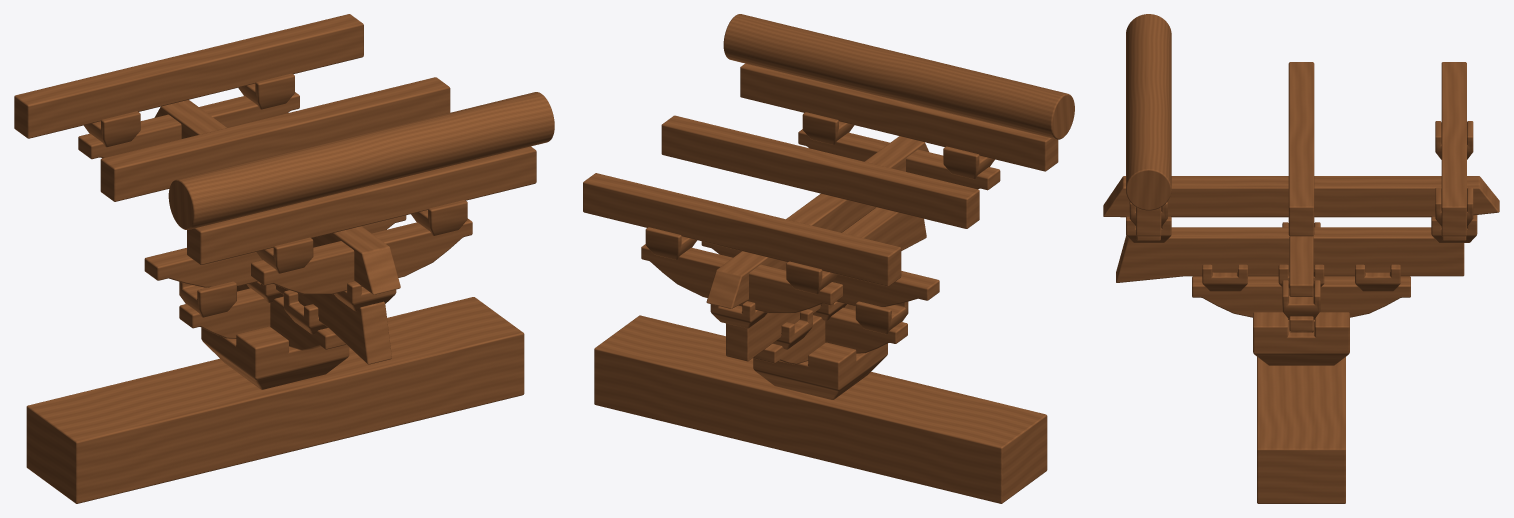
3 renders of one model, left to right at view 1: azimuth 30°, elevation 25°; view 2: azimuth 150°, elevation 25°; view 3: azimuth 270°, elevation 25°, orthographic. The views are drawn at different scales.
Parts seen in each view (by area): view 1: g6_timber_01, g6_beam_24, g6_timber_23, g6_timber_22, g6_timber_21, g6_gong_14, g6_dou_02, g6_head_20, g6_gong_17, g6_ang_10, g6_gong_11, g6_gong_04 (+8 smaller); view 2: g6_timber_01, g6_beam_24, g6_timber_22, g6_timber_23, g6_timber_21, g6_head_20, g6_gong_17, g6_dou_02, g6_ang_10, g6_gong_14, g6_gong_11, g6_gong_04 (+8 smaller); view 3: g6_ang_10, g6_timber_01, g6_head_20, g6_beam_24, g6_gong_03, g6_timber_22, g6_timber_23, g6_dou_02, g6_gong_11, g6_dou_07, g6_dou_05, g6_dou_09 (+6 smaller).
Boxes of the visible parts, x1,y1,x2,y2 form: g6_timber_01: (26,297,524,503); g6_beam_24: (168,92,554,229); g6_timber_23: (14,14,363,138); g6_timber_22: (100,77,450,201); g6_timber_21: (187,146,536,264); g6_gong_14: (251,218,472,294); g6_dou_02: (201,326,349,389); g6_head_20: (154,100,400,294); g6_gong_17: (78,92,299,159); g6_ang_10: (275,285,391,364); g6_gong_11: (144,215,406,287); g6_gong_04: (179,288,270,338); g6_timber_01: (594,315,1047,503); g6_beam_24: (723,14,1074,139); g6_timber_22: (661,115,979,228); g6_timber_23: (583,173,901,286); g6_timber_21: (740,63,1058,171); g6_head_20: (706,136,928,308); g6_gong_17: (641,244,842,313); g6_dou_02: (753,342,887,399); g6_ang_10: (726,207,926,361); g6_gong_14: (798,129,1000,190); g6_gong_11: (701,241,939,306); g6_gong_04: (825,307,907,353); g6_ang_10: (1116,227,1464,282); g6_timber_01: (1257,357,1345,503); g6_head_20: (1103,176,1499,217); g6_beam_24: (1126,14,1171,210); g6_gong_03: (1192,276,1410,319); g6_timber_22: (1288,62,1314,236); g6_timber_23: (1441,62,1466,236); g6_dou_02: (1253,312,1349,365); g6_gong_11: (1289,236,1313,296); g6_dou_07: (1355,264,1400,291); g6_dou_05: (1202,264,1247,291); g6_dou_09: (1282,280,1320,318).
Bounding box in the file's own units: 3.15 × 2.4 × 2.72.
1 material, 1 textured.
